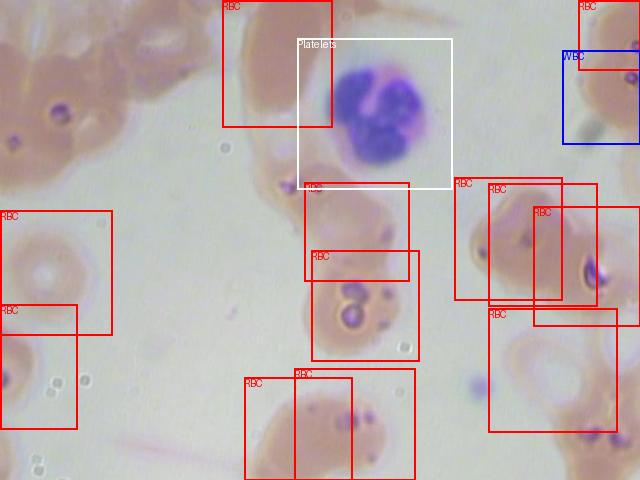Platelets: (297, 38, 452, 189)
RBC: (488, 308, 617, 432), (0, 210, 112, 335), (222, 0, 332, 127), (294, 368, 415, 480), (488, 183, 597, 306), (454, 177, 562, 300), (533, 206, 640, 326), (311, 250, 419, 361), (244, 377, 352, 480), (304, 182, 409, 281), (0, 304, 77, 429), (578, 0, 640, 70)
WBC: (562, 50, 640, 144)
